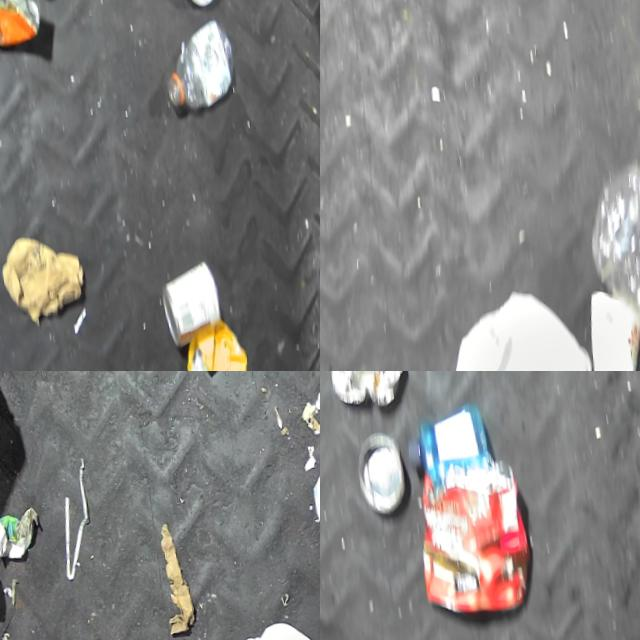can: (150, 265, 216, 356), (573, 290, 640, 371), (348, 432, 404, 520), (320, 371, 404, 415), (0, 0, 47, 56)
milk_jug: (434, 287, 593, 371)
non_white_jug: (169, 322, 245, 371)
plastic_bottle: (575, 159, 640, 371), (153, 23, 235, 122)
